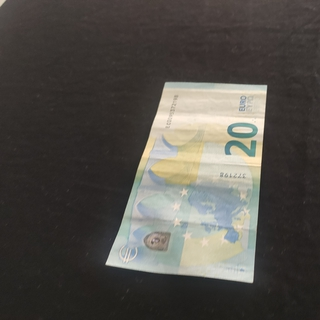20EUROBack: (105, 81, 268, 283)
